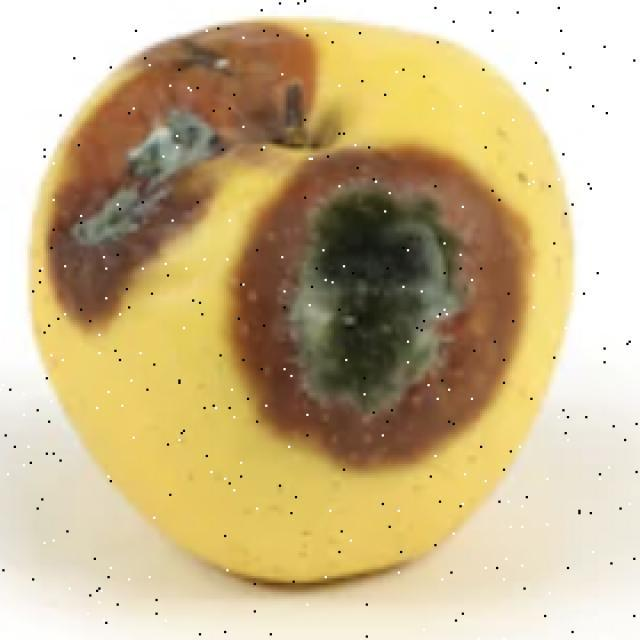Rotten: (60, 19, 562, 584)
